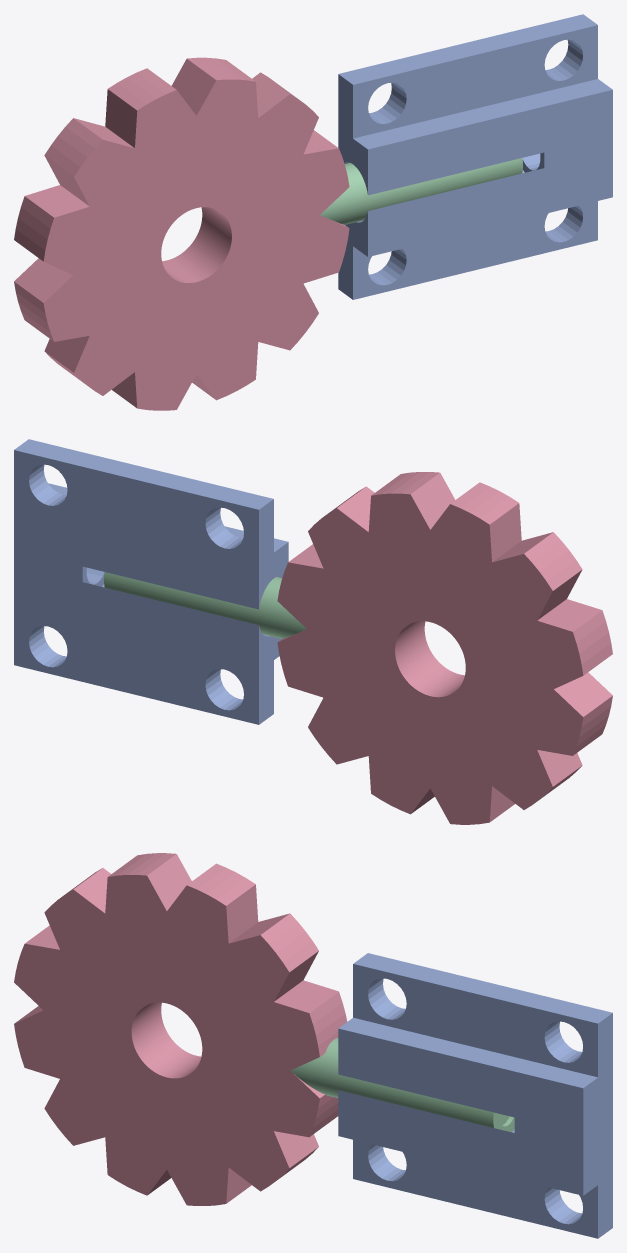
Rendered from detent_pair_demo.glb.
The picture shows the model from 3 angles, top to bottom: view 1: azimuth 30°, elevation 25°; view 2: azimuth 150°, elevation 25°; view 3: azimuth 330°, elevation 25°; orthographic projection.
Visible parts, largest first — view 1: wheel, housing, plunger; view 2: wheel, housing, plunger; view 3: wheel, housing, plunger.
Part boxes in pixels (bbox=[...]): wheel: bbox=[14, 57, 349, 410]; housing: bbox=[338, 14, 612, 299]; plunger: bbox=[320, 158, 522, 224]; wheel: bbox=[277, 472, 612, 824]; housing: bbox=[14, 439, 288, 724]; plunger: bbox=[104, 572, 306, 638]; wheel: bbox=[14, 853, 347, 1205]; housing: bbox=[338, 953, 612, 1238]; plunger: bbox=[290, 1038, 514, 1132].
Bounding box in the file's own units: 66.45 × 35.7 × 6.
